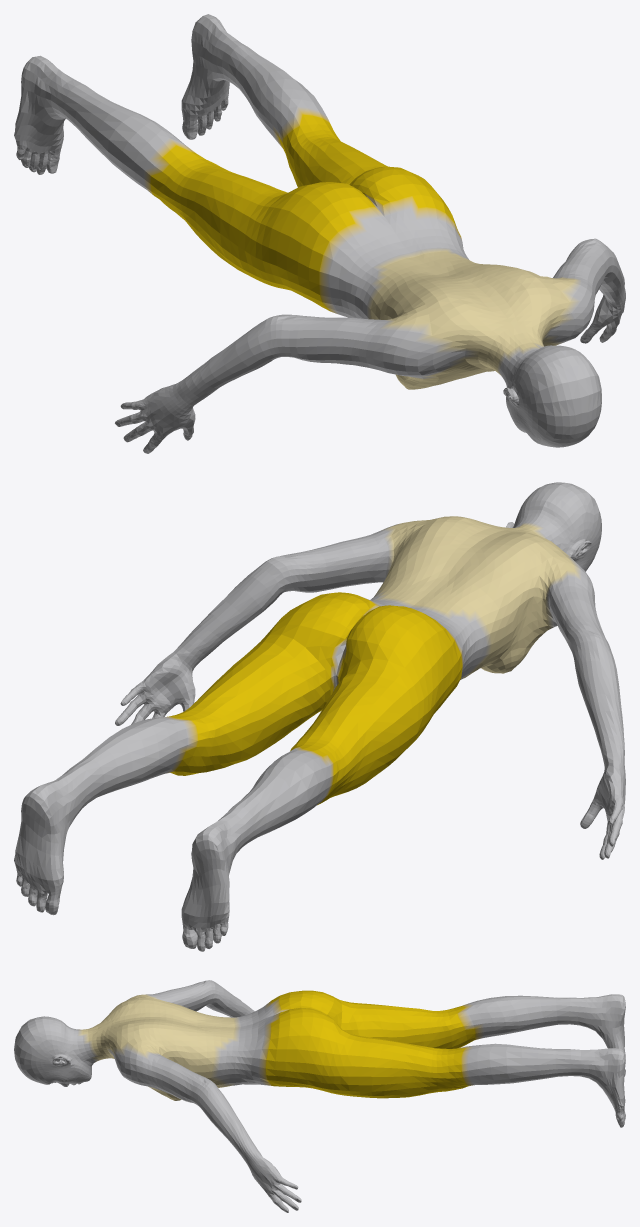
Rendered from avatar.glb.
The picture shows the model from 3 angles, top to bottom: view 1: azimuth 30°, elevation 25°; view 2: azimuth 150°, elevation 25°; view 3: azimuth 270°, elevation 25°; orthographic projection. The views are drawn at different scales.
Visible parts, largest first — view 1: world; view 2: world; view 3: world.
Boxes of the visible parts, bbox=[...] form: world: bbox=[14, 14, 625, 453]; world: bbox=[14, 482, 625, 951]; world: bbox=[14, 980, 625, 1212].
Size of the model in its own units: 1.08 by 0.4306 by 1.75.
